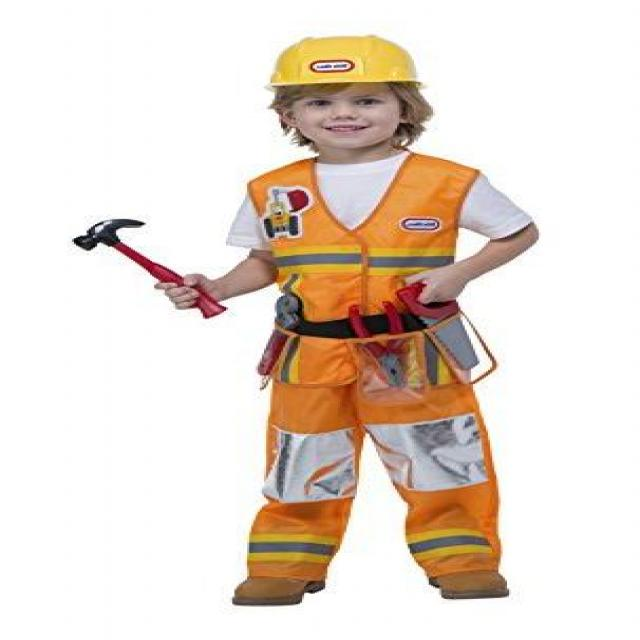Reflective-Jacket: (238, 154, 486, 348)
Safety-Helmet: (260, 28, 431, 94)
